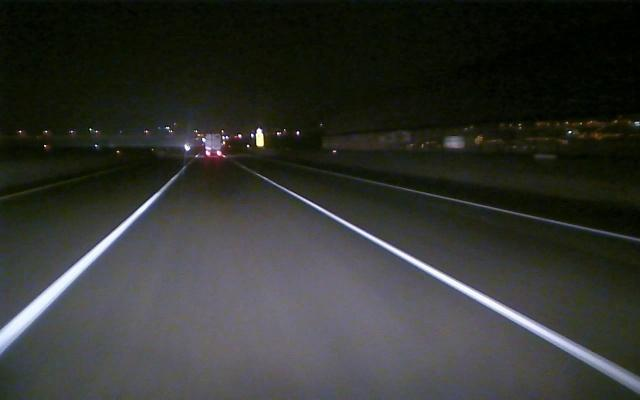lane: (260, 175, 638, 391), (3, 186, 164, 352), (359, 178, 640, 243), (0, 168, 123, 201)
